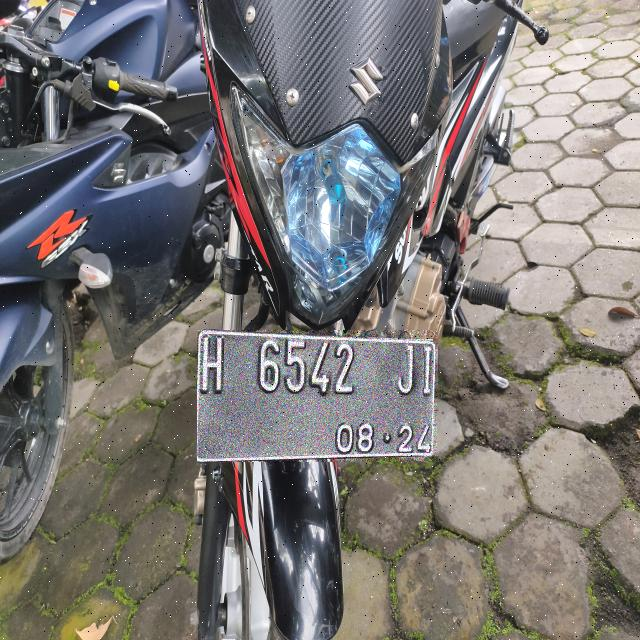plate: (197, 331, 435, 461)
